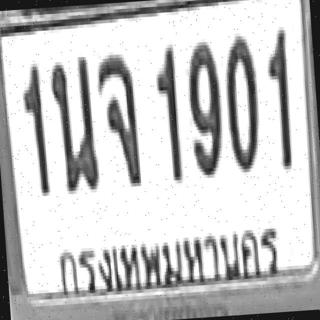A08: (94, 48, 141, 186)
A25: (47, 53, 99, 192)
N00: (222, 32, 260, 170)
N01: (263, 25, 293, 168), (152, 43, 182, 183), (19, 61, 49, 195)
N09: (184, 38, 223, 176)
P04: (52, 218, 284, 302)
